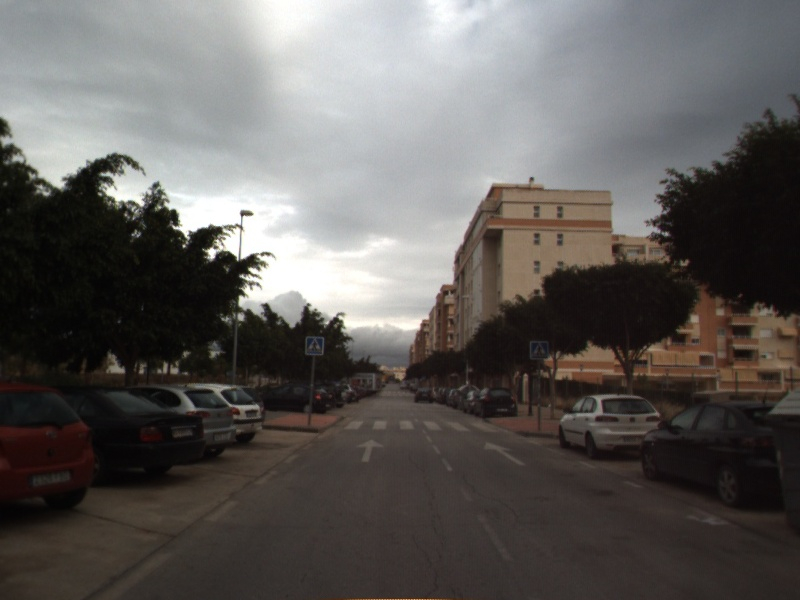STRAIGHT: (482, 439, 528, 467), (354, 437, 386, 464)
